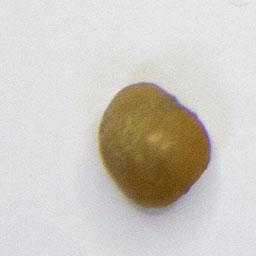defect: (96, 77, 216, 212)
